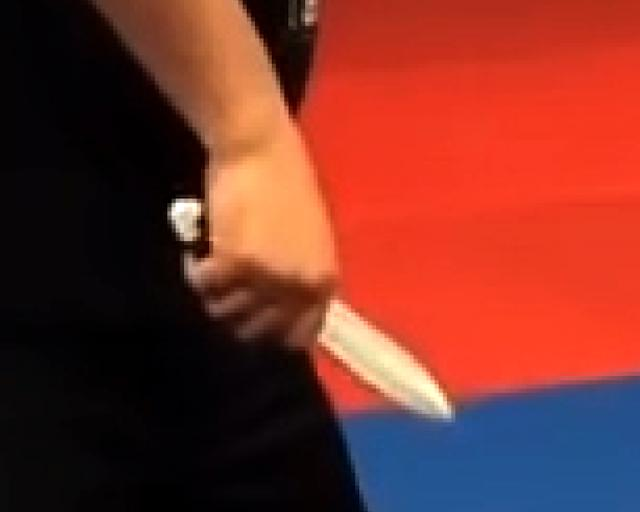pocket-knife: (158, 155, 462, 427)
